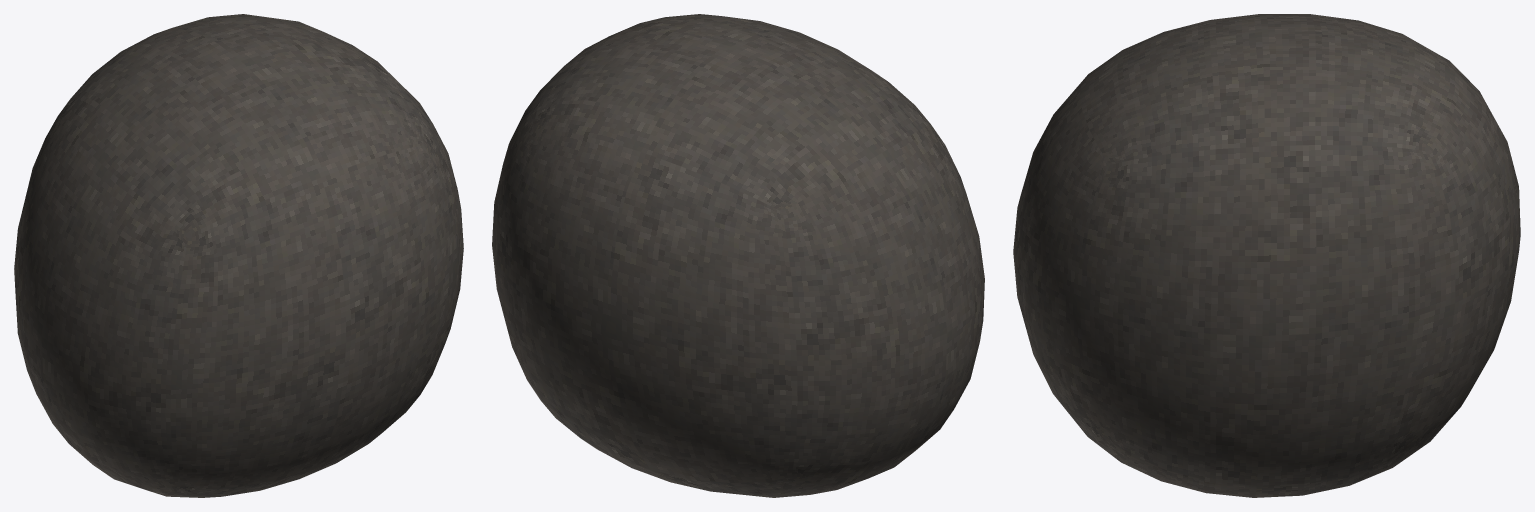
File: rock.glb
3 views of the same model, side by side, from view 1: azimuth 30°, elevation 25°; view 2: azimuth 150°, elevation 25°; view 3: azimuth 270°, elevation 25° (orthographic). The views are drawn at different scales.
Parts seen in each view (by area): view 1: Rock; view 2: Rock; view 3: Rock.
Boxes of the visible parts, x1=… form: Rock: x1=14, y1=14, x2=463, y2=497; Rock: x1=492, y1=14, x2=984, y2=497; Rock: x1=1013, y1=14, x2=1520, y2=497.
Size of the model in its own units: 5.39 by 5.27 by 5.42.
Materials: 1 (1 with a texture image).
